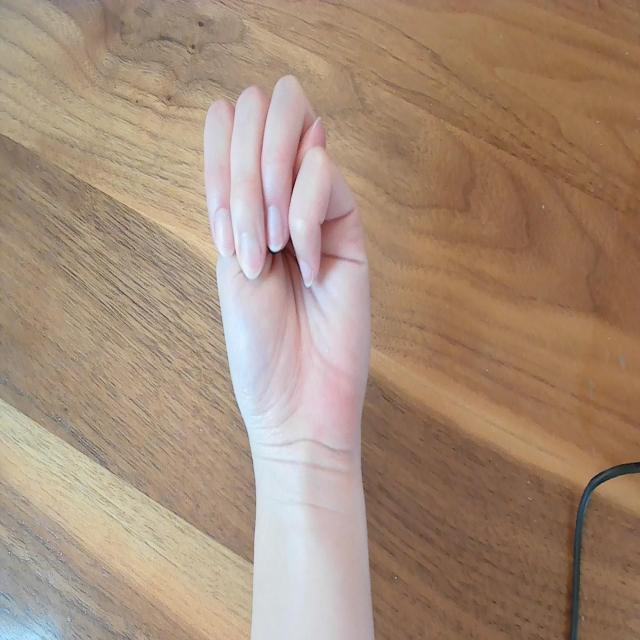M: (202, 70, 375, 490)
